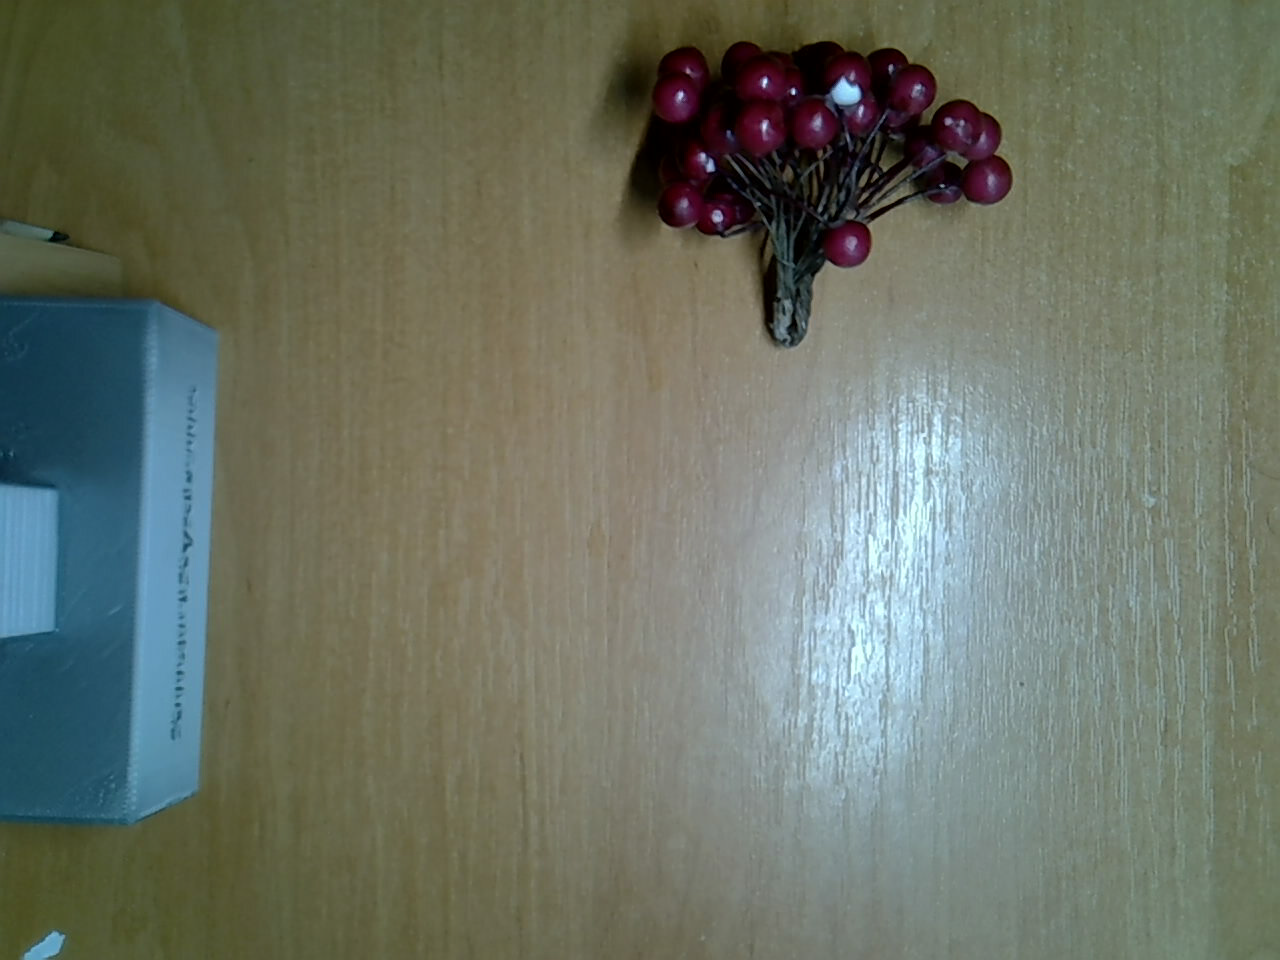berries: (635, 34, 1018, 357)
